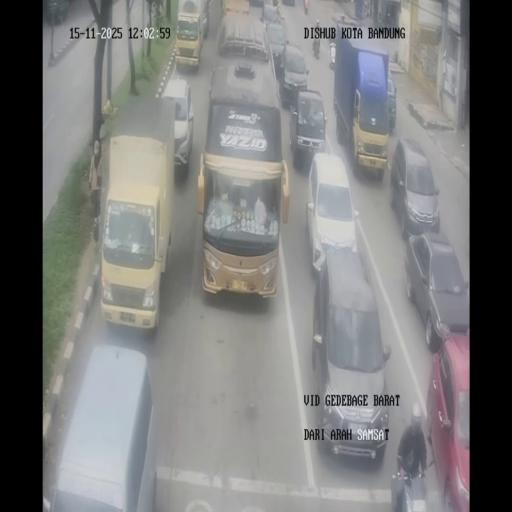3: (197, 12, 288, 300), (100, 96, 180, 334), (332, 22, 390, 179), (174, 0, 210, 70), (204, 0, 224, 35), (224, 0, 250, 17)
car: (52, 343, 160, 508), (312, 249, 388, 457), (405, 232, 470, 350), (426, 335, 469, 510), (306, 153, 358, 279), (390, 138, 440, 240), (160, 77, 193, 175), (289, 88, 325, 172), (278, 44, 310, 111), (260, 2, 284, 34), (387, 76, 397, 129)
truck: (398, 467, 430, 512), (312, 24, 320, 59), (304, 0, 308, 14)
